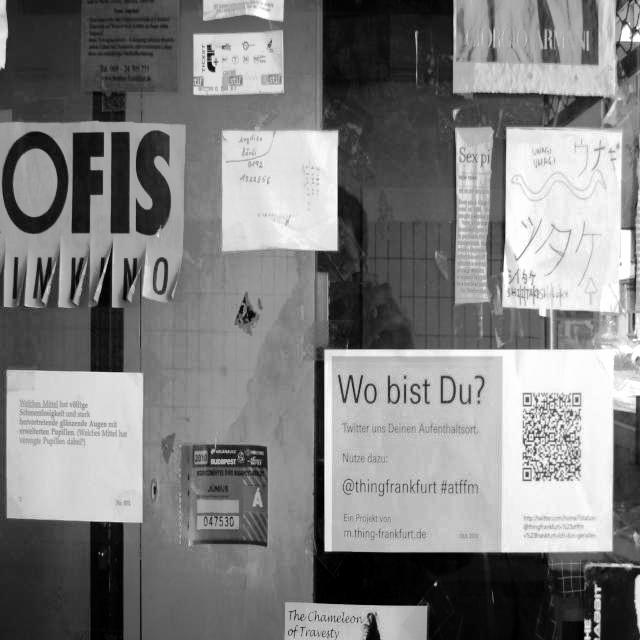qr_code: (523, 393, 581, 481)
